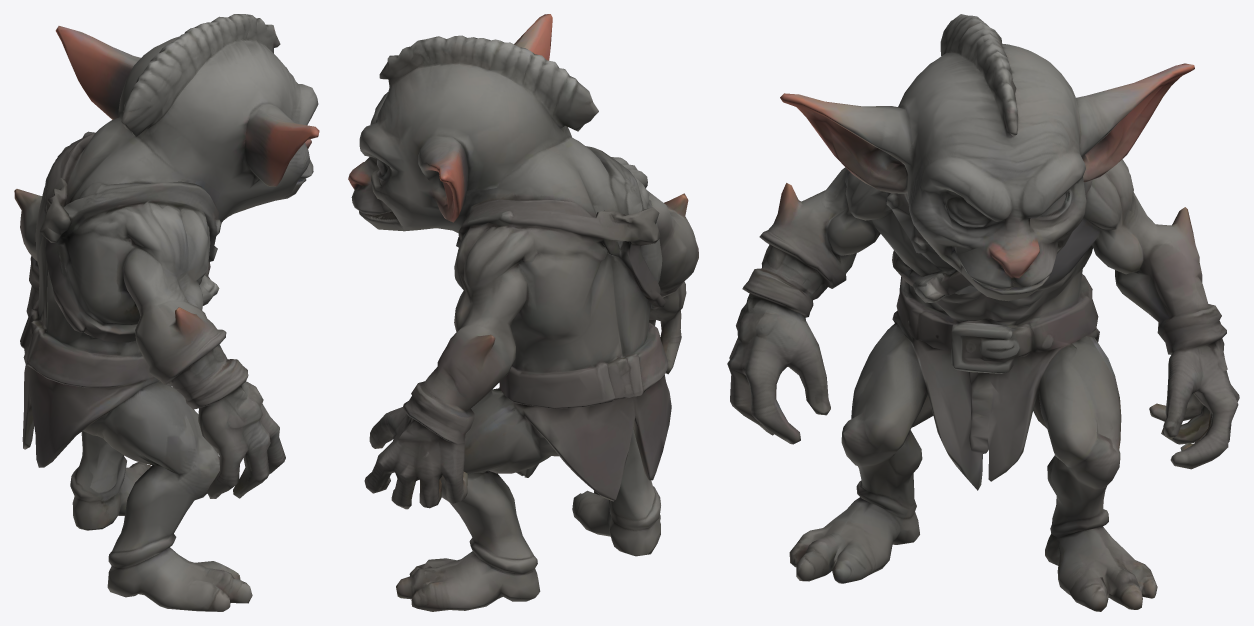
The model's file is small_goblin_enemy_64x64_4frame_walk_2frame_attack_slightly_darker-2025-09-29-101418.glb.
3 views of the same model, side by side, from view 1: azimuth 30°, elevation 25°; view 2: azimuth 150°, elevation 25°; view 3: azimuth 270°, elevation 25° (orthographic). The views are drawn at different scales.
Visible parts, largest first — view 1: tripo_node_2e42254e-2d71-4ad0-bc21-f5ba7fa05816; view 2: tripo_node_2e42254e-2d71-4ad0-bc21-f5ba7fa05816; view 3: tripo_node_2e42254e-2d71-4ad0-bc21-f5ba7fa05816.
Boxes of the visible parts, bbox=[...] form: tripo_node_2e42254e-2d71-4ad0-bc21-f5ba7fa05816: bbox=[14, 14, 319, 611]; tripo_node_2e42254e-2d71-4ad0-bc21-f5ba7fa05816: bbox=[348, 14, 698, 611]; tripo_node_2e42254e-2d71-4ad0-bc21-f5ba7fa05816: bbox=[727, 14, 1239, 611].
Bounding box in the file's own units: 0.5908 × 1 × 0.8098.
1 material, 1 textured.
